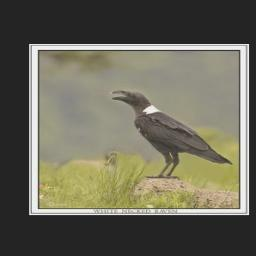Crow: (108, 89, 235, 180)
